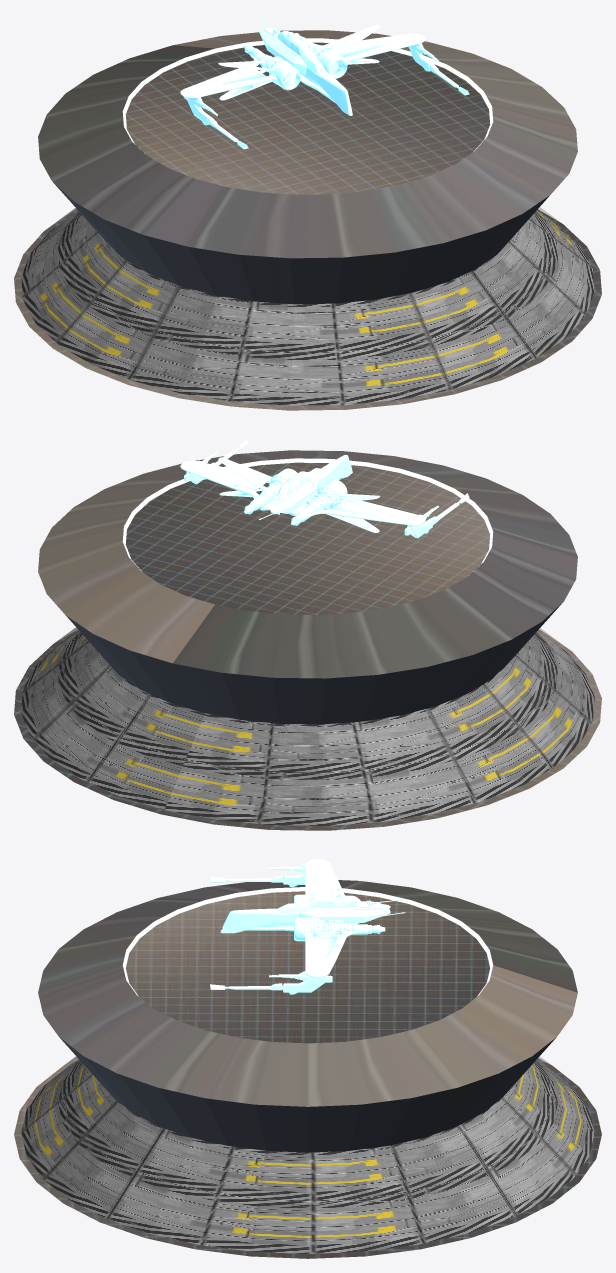
The model's file is holo_table.low.glb.
3 views of the same model, one above another, from view 1: azimuth 30°, elevation 25°; view 2: azimuth 150°, elevation 25°; view 3: azimuth 270°, elevation 25° (orthographic).
Parts seen in each view (by area): view 1: Cylinder_0, chuantou_1; view 2: Cylinder_0, chuantou_1; view 3: Cylinder_0, chuantou_1.
Part boxes in pixels (left/top/right/bottom): Cylinder_0: left=14, top=30, right=601, bottom=410; chuantou_1: left=180, top=14, right=469, bottom=149; Cylinder_0: left=14, top=450, right=601, bottom=830; chuantou_1: left=180, top=439, right=469, bottom=538; Cylinder_0: left=14, top=880, right=601, bottom=1258; chuantou_1: left=210, top=859, right=405, bottom=994.
Bounding box in the file's own units: 2.79 × 1.26 × 2.79.
Materials: 5 (2 with a texture image).
